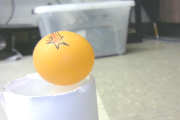PingPongBall: (33, 31, 95, 86)
